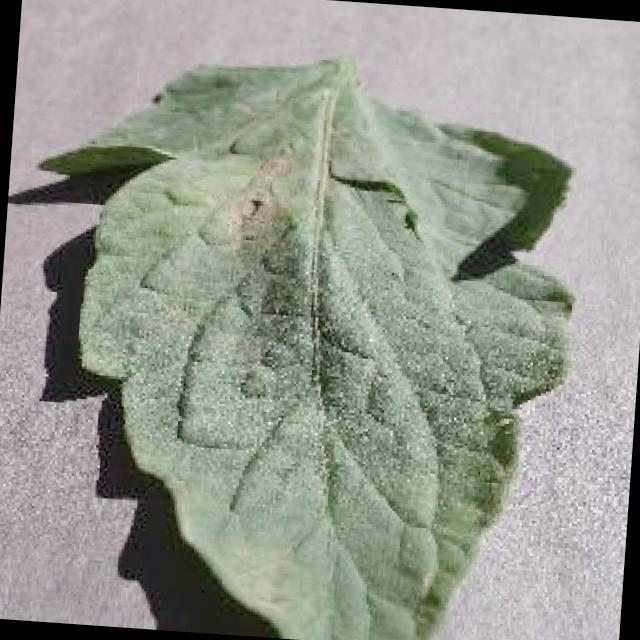Tomato Early blight leaf: (58, 47, 595, 640)
